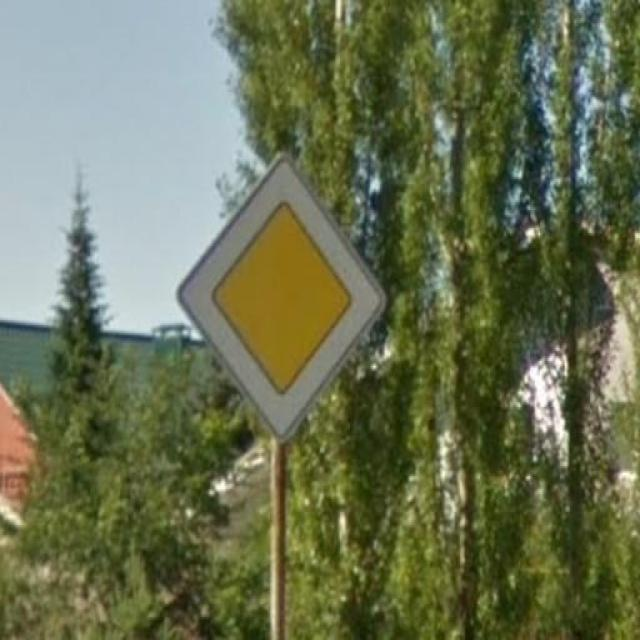traffic_sign: (176, 151, 385, 440)
